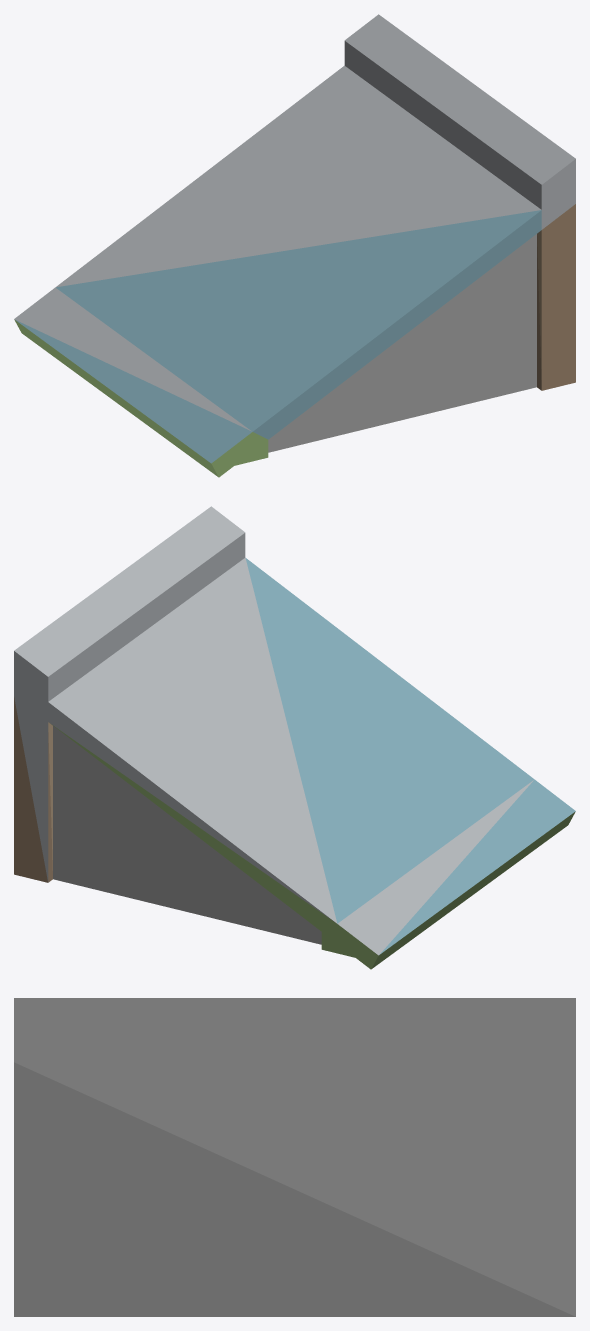
3 views of the same model, one above another, from view 1: azimuth 30°, elevation 25°; view 2: azimuth 150°, elevation 25°; view 3: azimuth 270°, elevation 25° (orthographic). The views are drawn at different scales.
Visible parts, largest first — view 1: model; view 2: model; view 3: model.
Part boxes in pixels (x1,y1,x2,y2): model: (14,14,575,477); model: (14,506,575,969); model: (14,998,575,1316).
Bounding box in the file's own units: 2.13 × 1.3 × 2.
